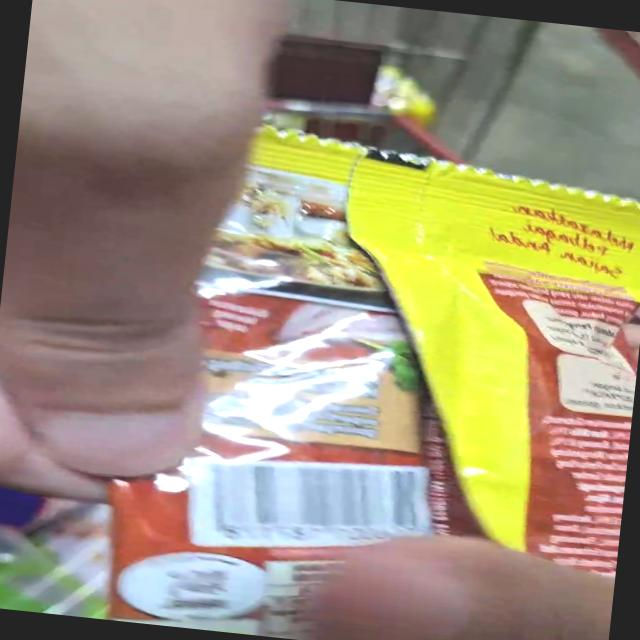Maggi Cukup Rasa: (74, 330, 635, 640), (150, 133, 640, 394)
